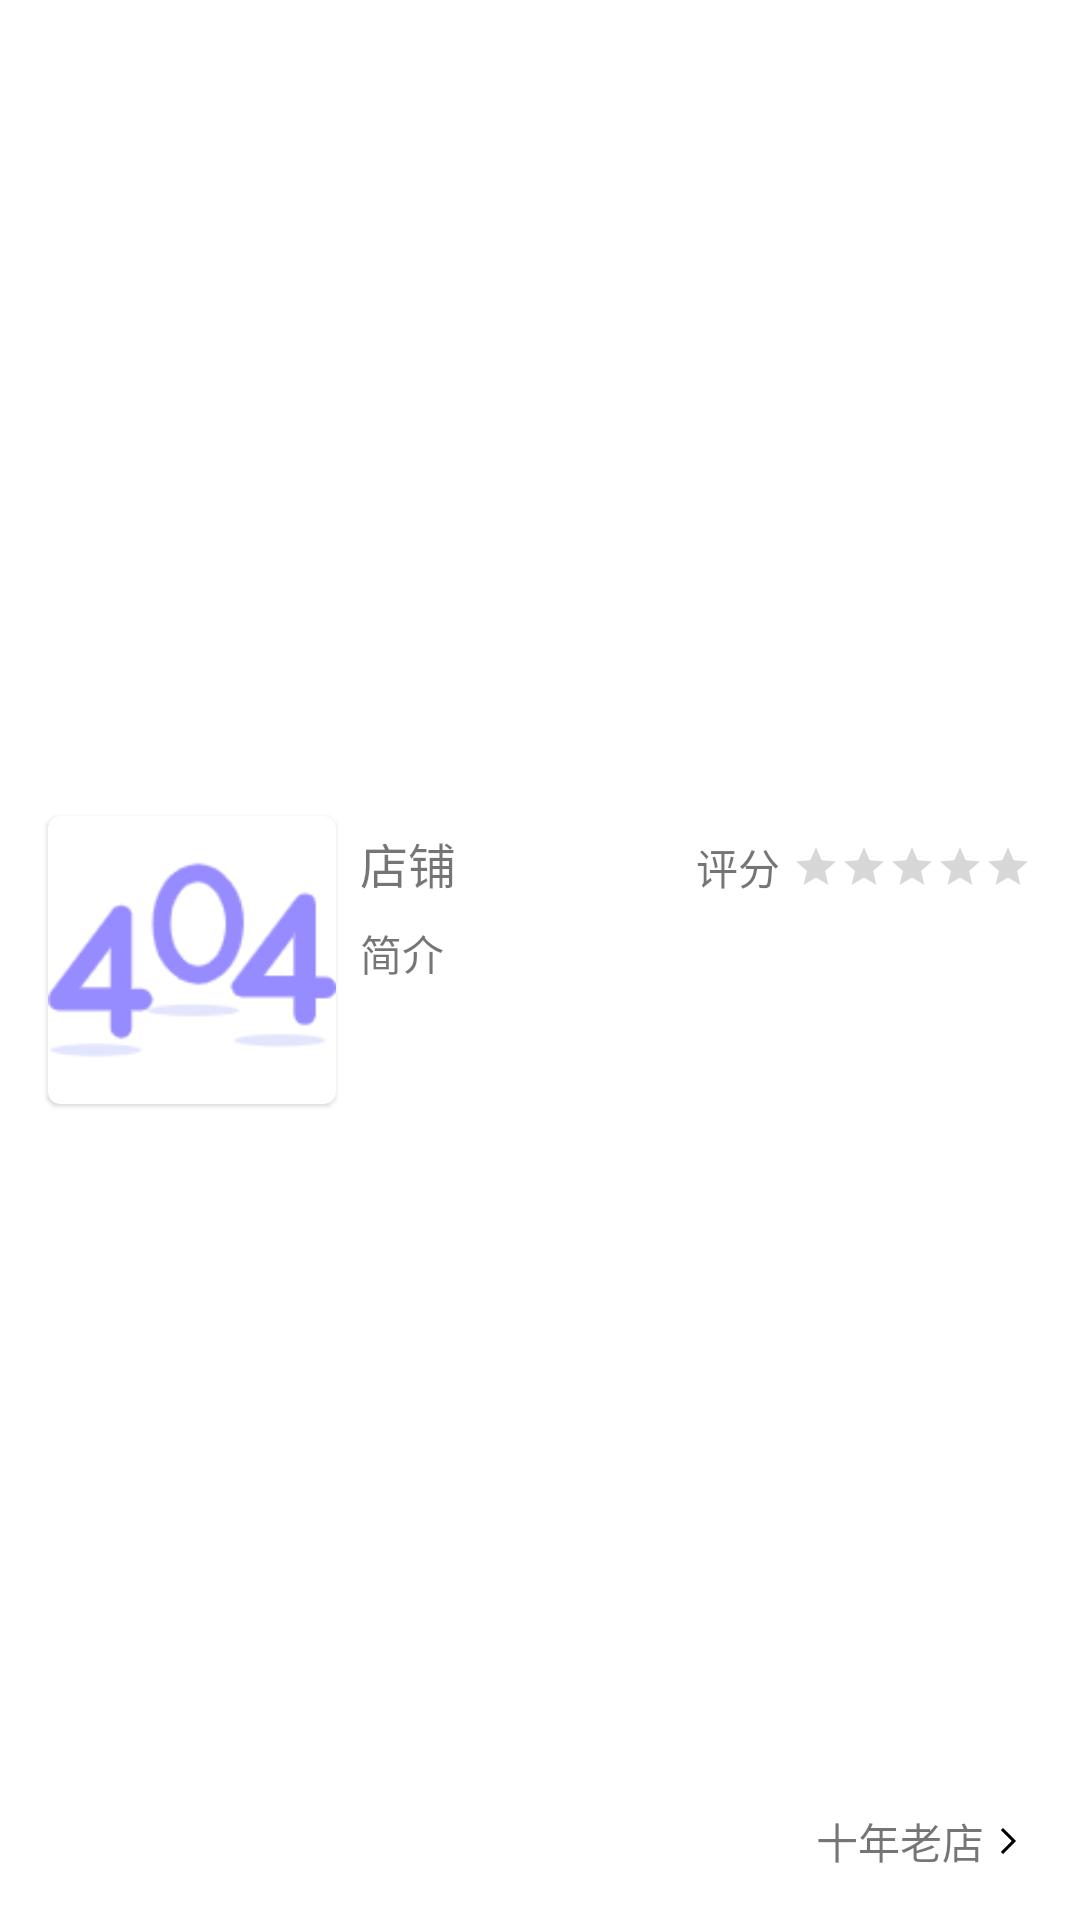

Icons on this 1080w x 1920h Android screen, each with the point to tap as [x,y]:
bitmap arrow right: [1008,1841]
